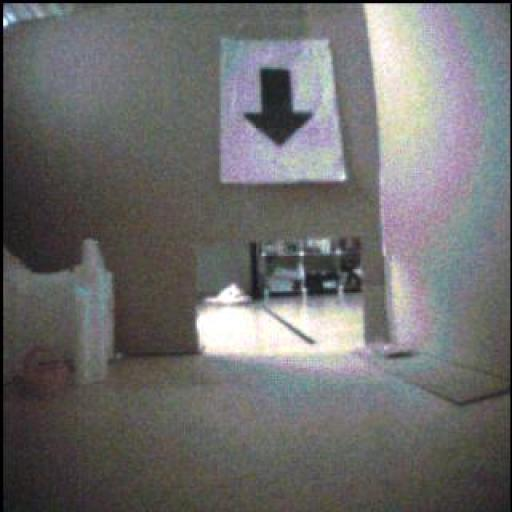arrow: (246, 70, 313, 147)
